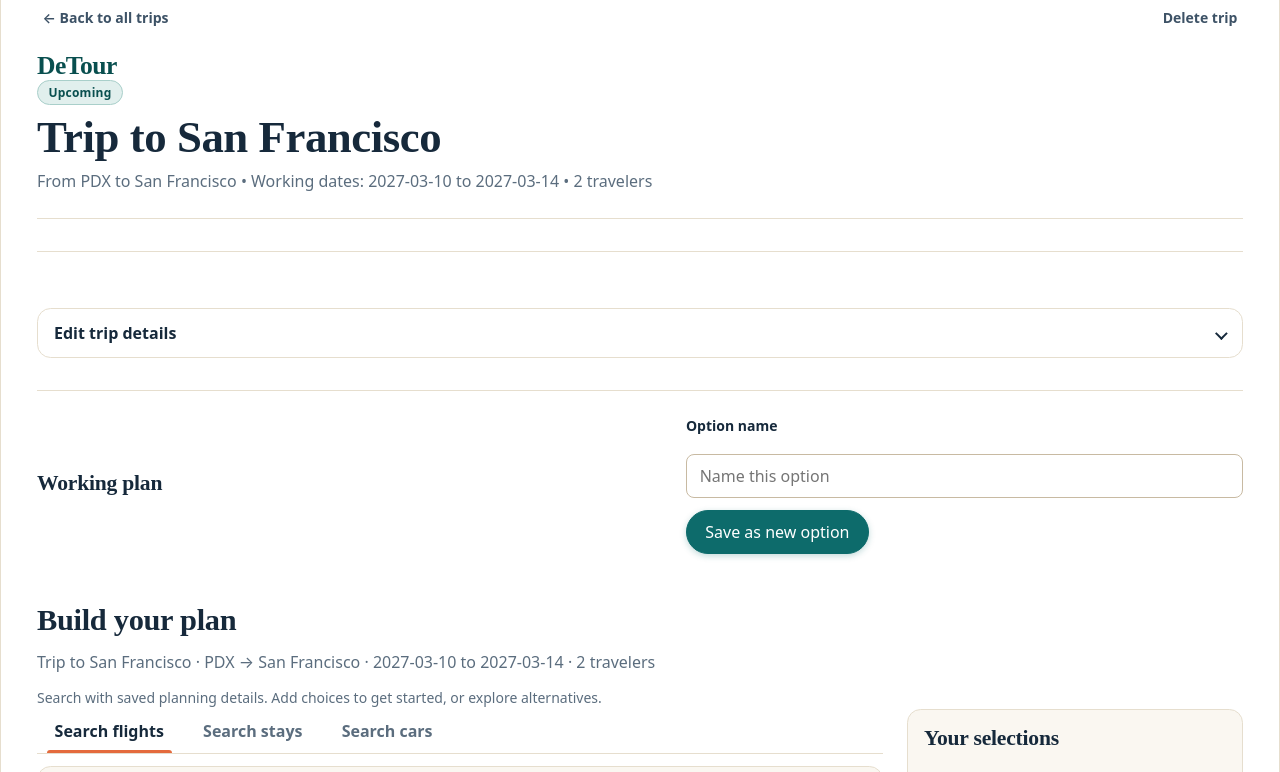
Progressive Trip Builder Experience › saves a named option only after the explicit action
Type "Early March" into the field labelled "Option name" at (964, 476), box [686,454,1243,498]
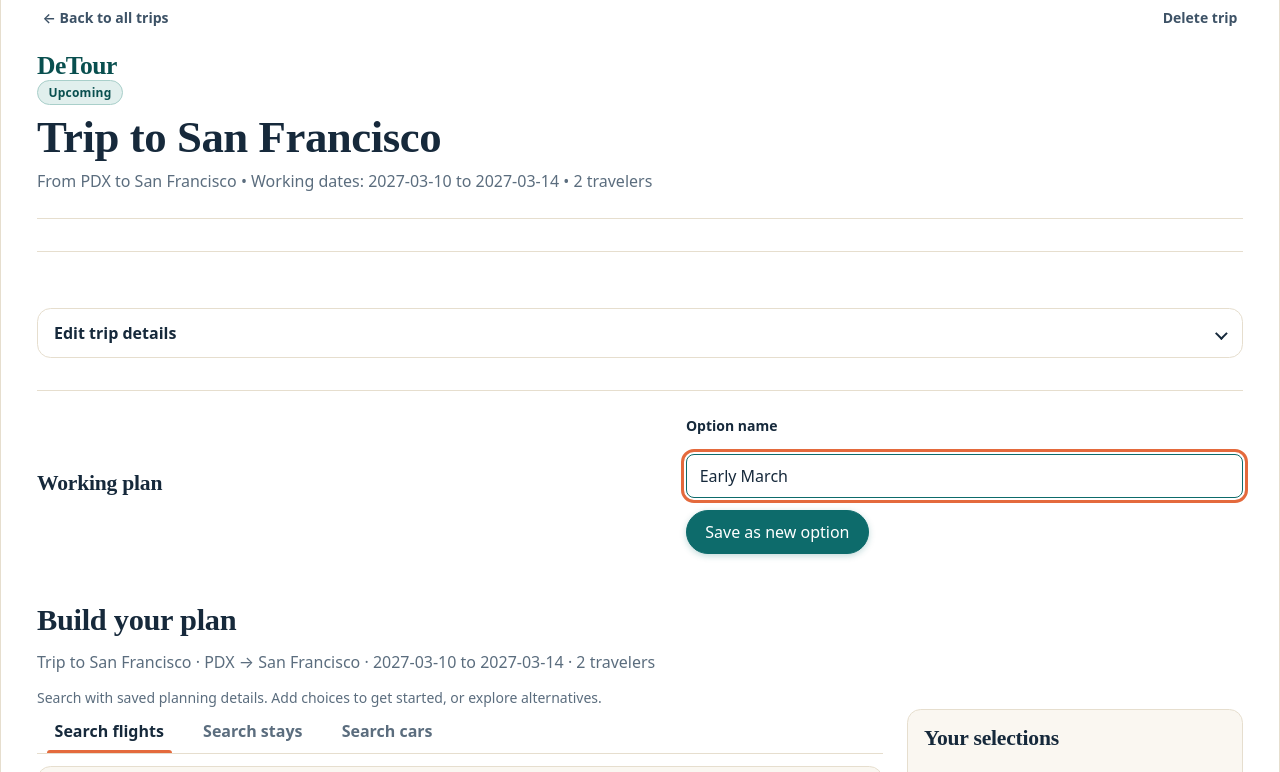
Click the button "Save as new option" at (777, 532), box [686,510,869,554]
(page scrolled)
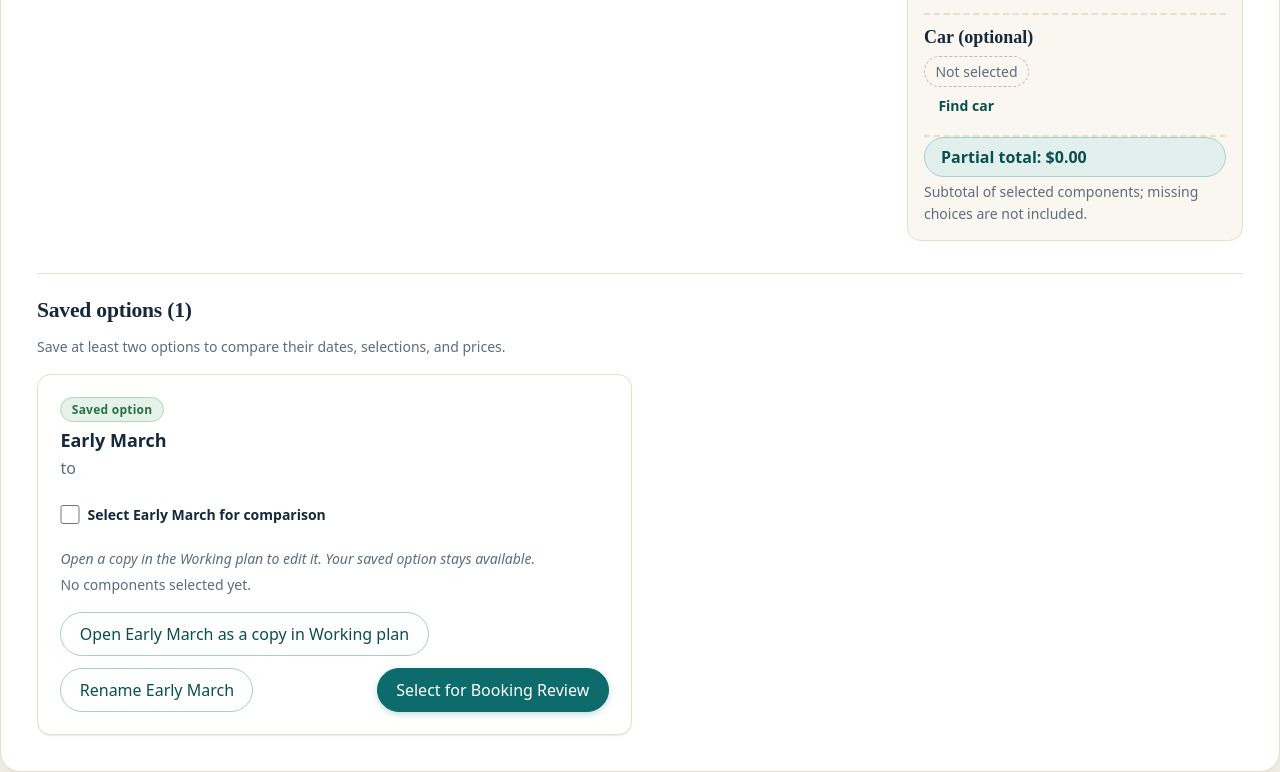
Expected: the heading "Early March" is shown, [60,428,167,452]
